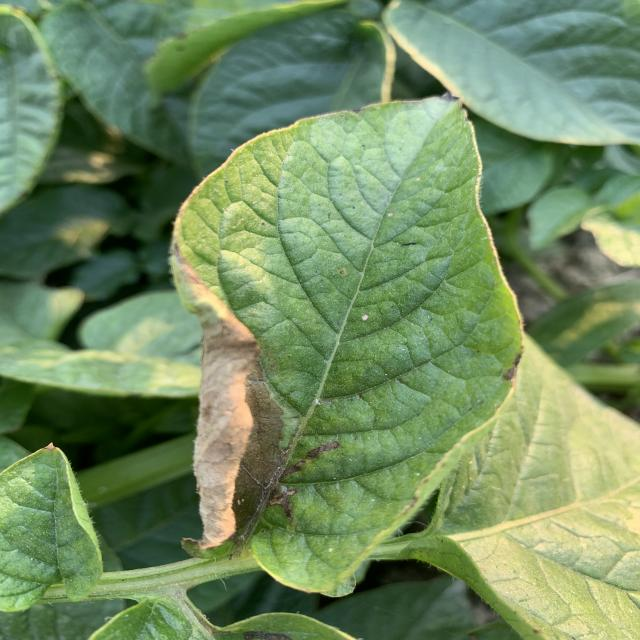lateblight: (172, 239, 285, 549)
